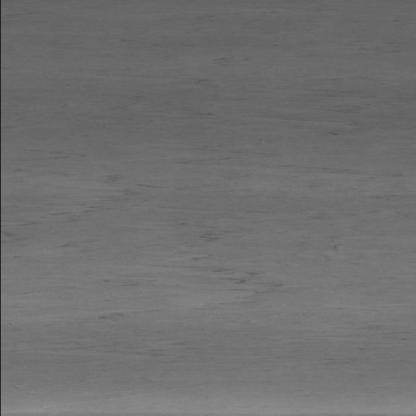silk_spot: (17, 44, 378, 324)
